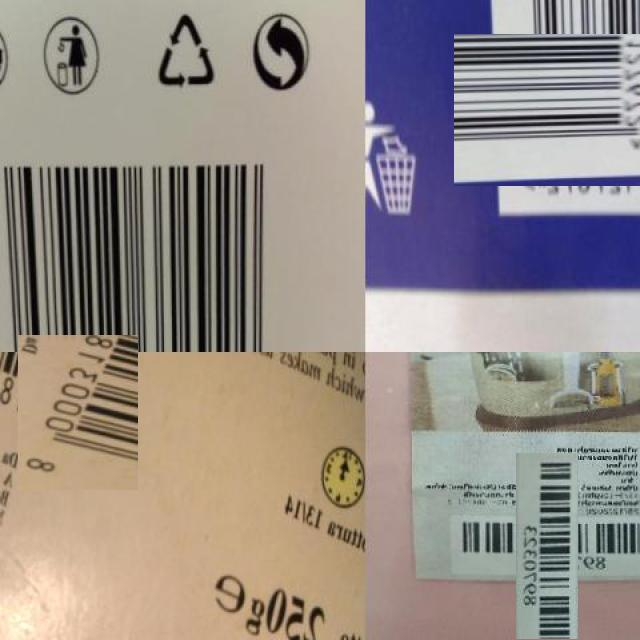Barcode: (0, 141, 304, 352), (471, 17, 640, 203), (9, 343, 147, 481), (484, 484, 609, 608)
